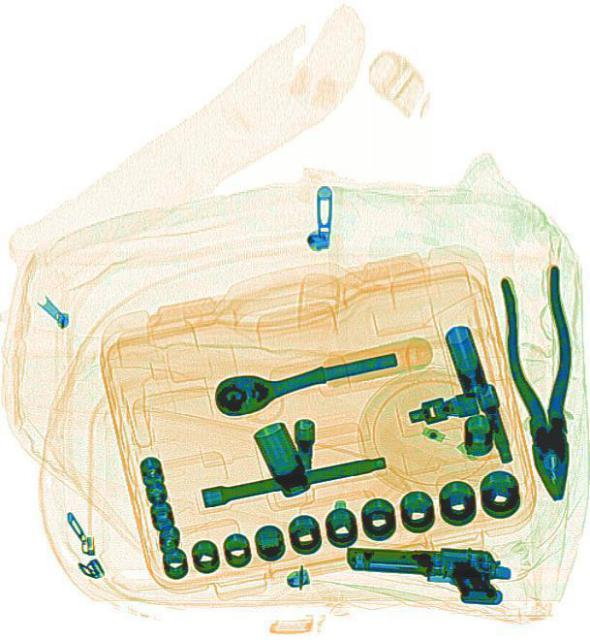Gun: (344, 540, 509, 606)
Pliers: (496, 262, 583, 502)
